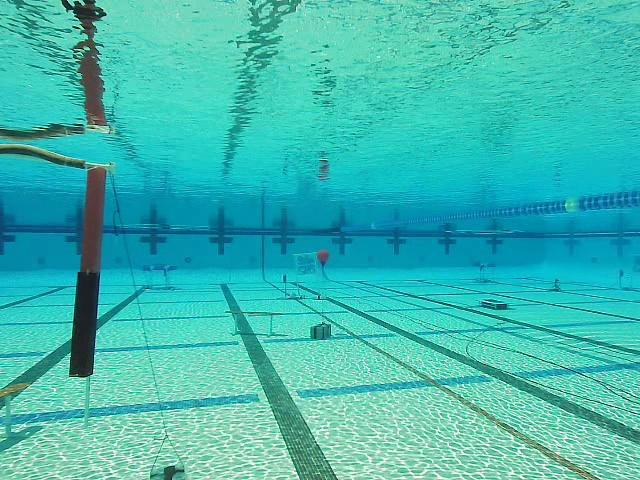buoy: (317, 251, 330, 269)
dropper: (478, 296, 510, 313)
gate_leg_r: (69, 164, 111, 379)
table: (140, 262, 176, 291)
torpedo: (292, 251, 320, 277)
